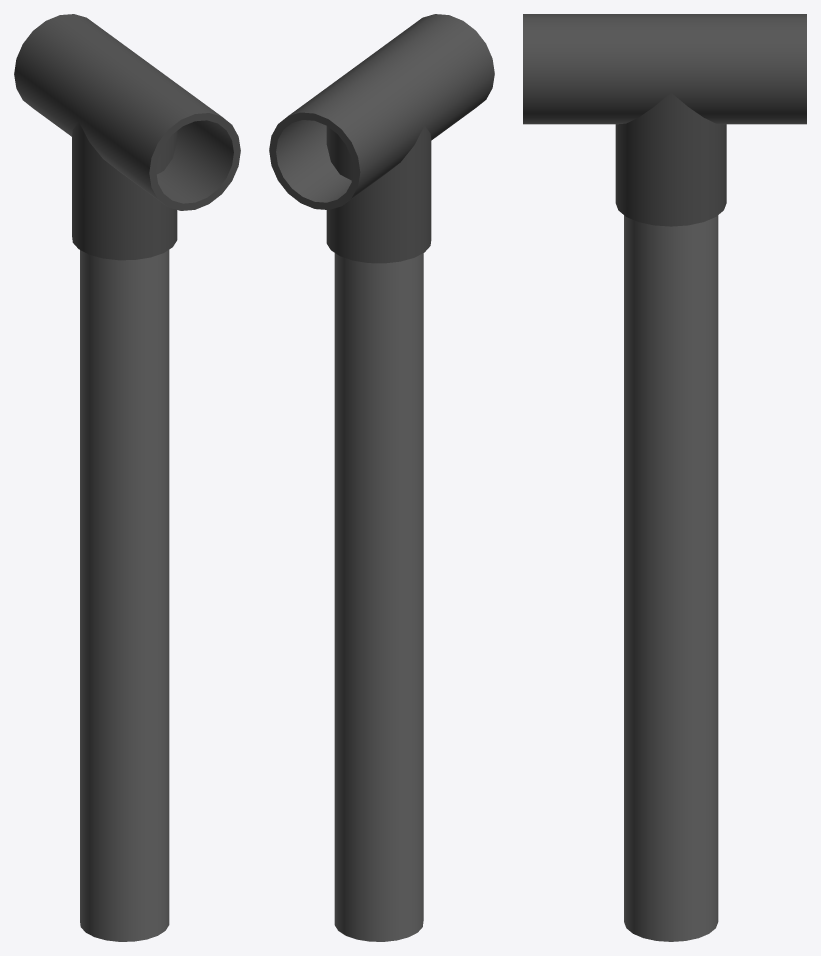
File: TPole.fbx
3 views of the same model, side by side, from view 1: azimuth 30°, elevation 25°; view 2: azimuth 150°, elevation 25°; view 3: azimuth 270°, elevation 25° (orthographic). The views are drawn at different scales.
Visible parts, largest first — view 1: Walkway_TPole; view 2: Walkway_TPole; view 3: Walkway_TPole.
Part boxes in pixels (x1=…): Walkway_TPole: x1=14, y1=14, x2=240, y2=941; Walkway_TPole: x1=269, y1=14, x2=494, y2=941; Walkway_TPole: x1=523, y1=14, x2=806, y2=941.
Size of the model in its own units: 12.95 by 116 by 33.1.
